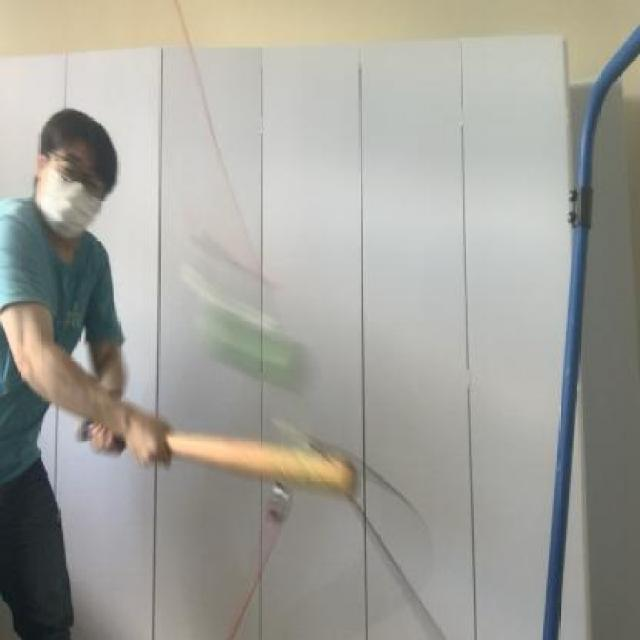baseball: (180, 292, 326, 408)
